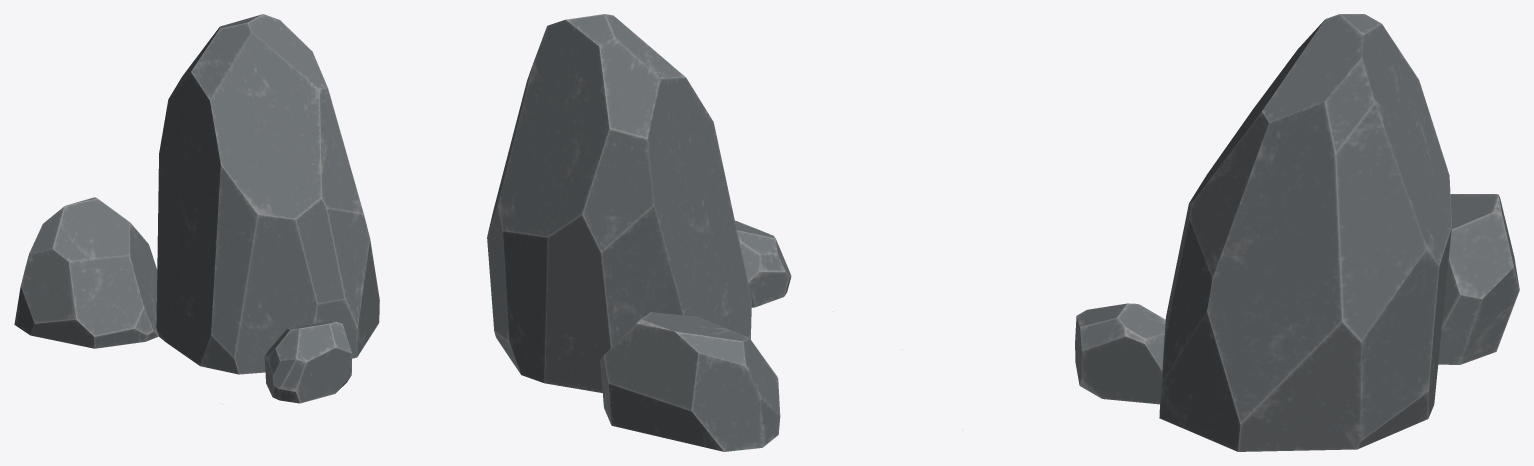
Rendered from Rocks1.glb.
The picture shows the model from 3 angles, left to right: view 1: azimuth 30°, elevation 25°; view 2: azimuth 150°, elevation 25°; view 3: azimuth 270°, elevation 25°; orthographic projection. The views are drawn at different scales.
Parts seen in each view (by area): view 1: Cube.001; view 2: Cube.001; view 3: Cube.001.
Boxes of the visible parts, <box> form: Cube.001: <box>14,14,379,404</box>; Cube.001: <box>487,14,791,451</box>; Cube.001: <box>902,14,1519,451</box>.
Size of the model in its own units: 0.9352 by 0.9428 by 1.38.
Materials: 1 (1 with a texture image).
